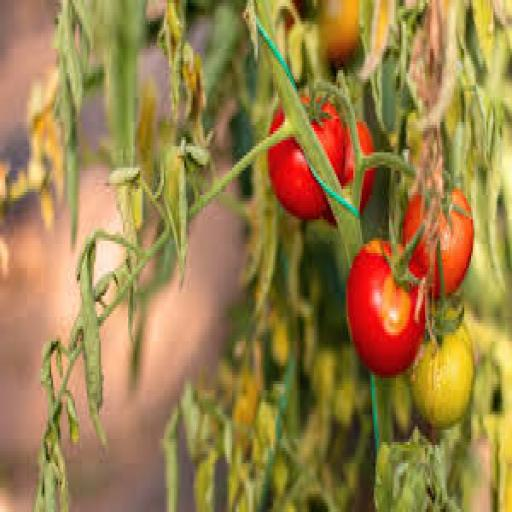tomato: (347, 241, 424, 377), (410, 324, 474, 426), (268, 138, 327, 219), (437, 189, 474, 295), (320, 0, 360, 63), (234, 372, 259, 426), (338, 128, 354, 188)
